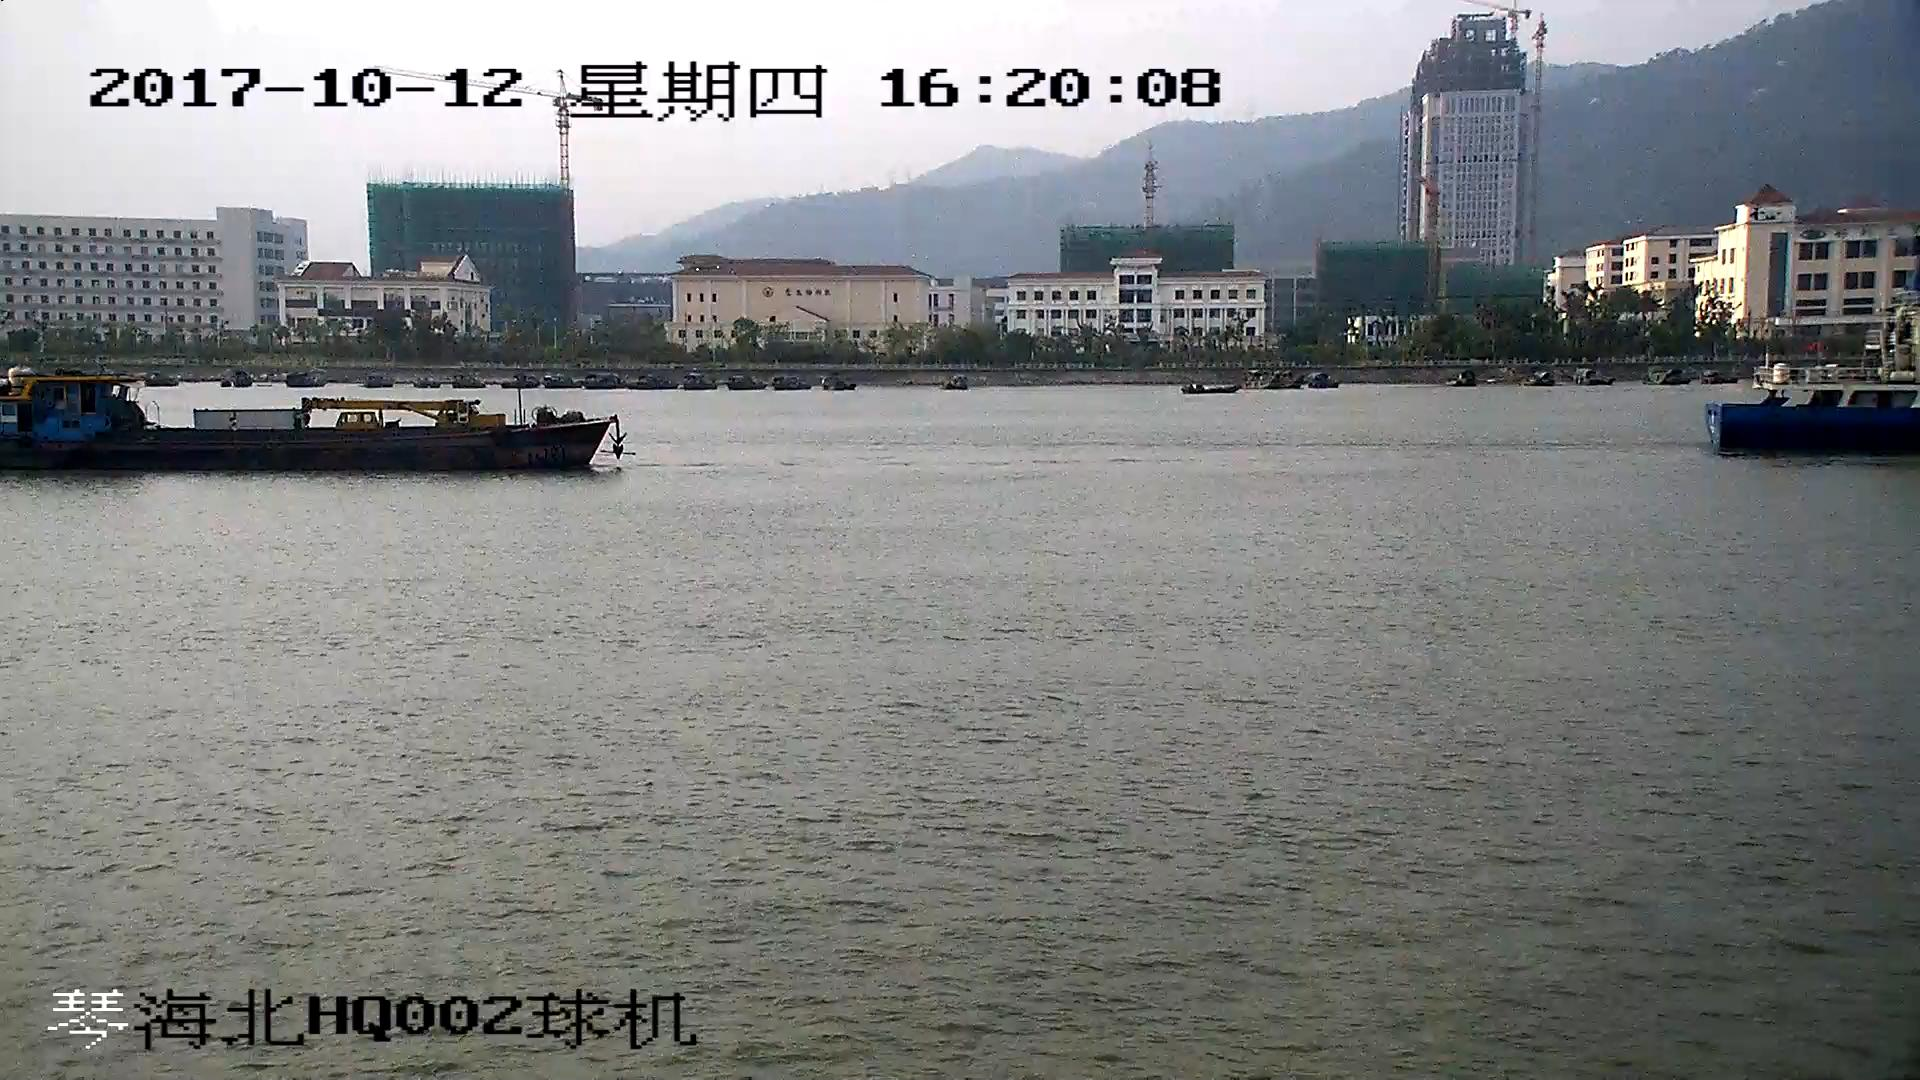fishing boat: (1, 375, 631, 466)
